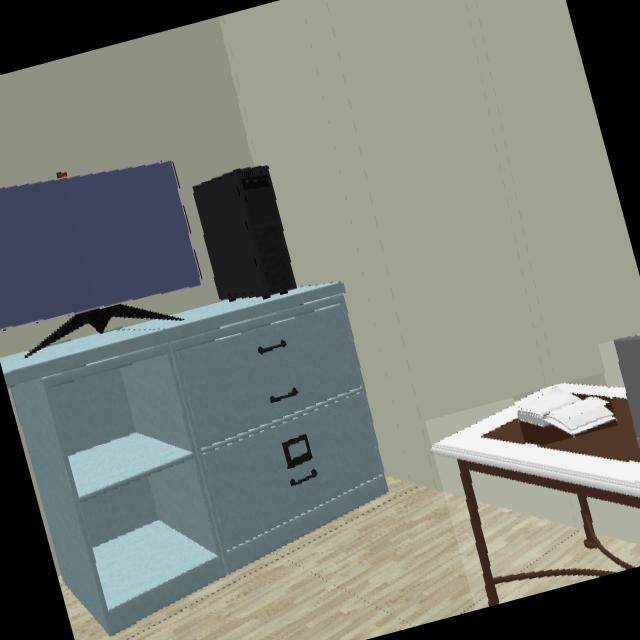book: (518, 385, 616, 436)
cabinet: (7, 285, 387, 629)
laptop: (614, 337, 640, 462)
monitor: (0, 161, 203, 331)
table: (433, 386, 640, 606)
